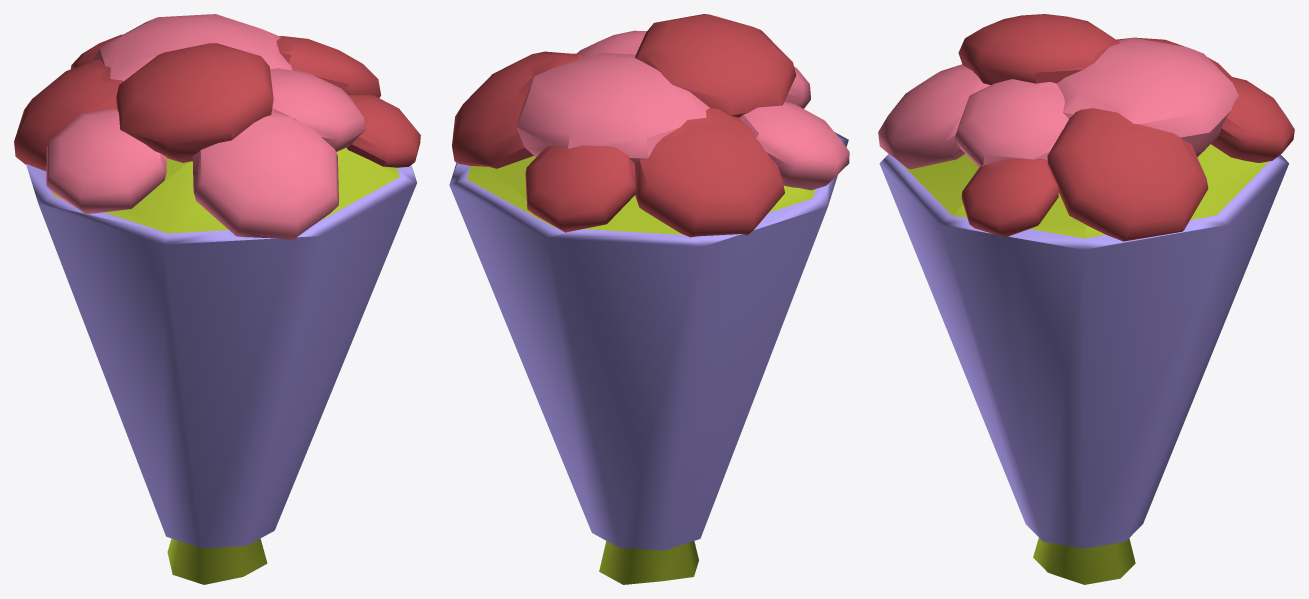
The model's file is SM_bouquet.fbx.
3 views of the same model, side by side, from view 1: azimuth 30°, elevation 25°; view 2: azimuth 150°, elevation 25°; view 3: azimuth 270°, elevation 25° (orthographic).
Parts seen in each view (by area): view 1: SM_Bouquet; view 2: SM_Bouquet; view 3: SM_Bouquet.
Boxes of the visible parts, bbox=[...] form: SM_Bouquet: bbox=[14, 14, 420, 584]; SM_Bouquet: bbox=[449, 14, 849, 584]; SM_Bouquet: bbox=[878, 14, 1294, 584].
Size of the model in its own units: 0.6181 by 0.8727 by 0.6284.
